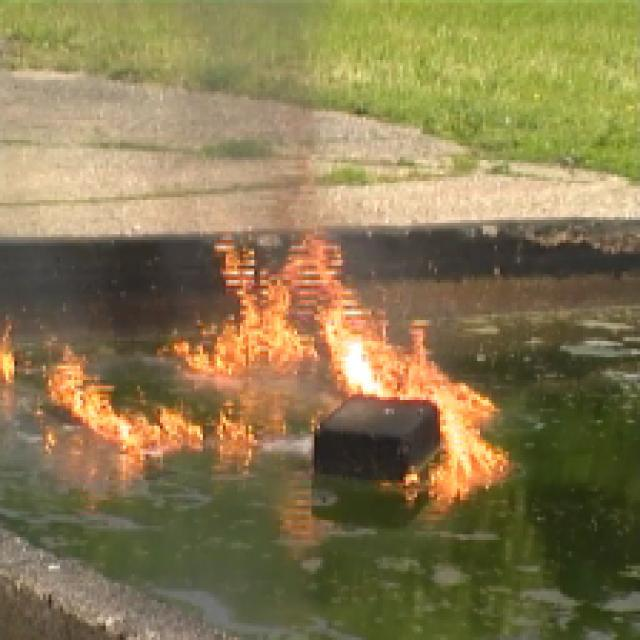Fire: (56, 247, 507, 490)
